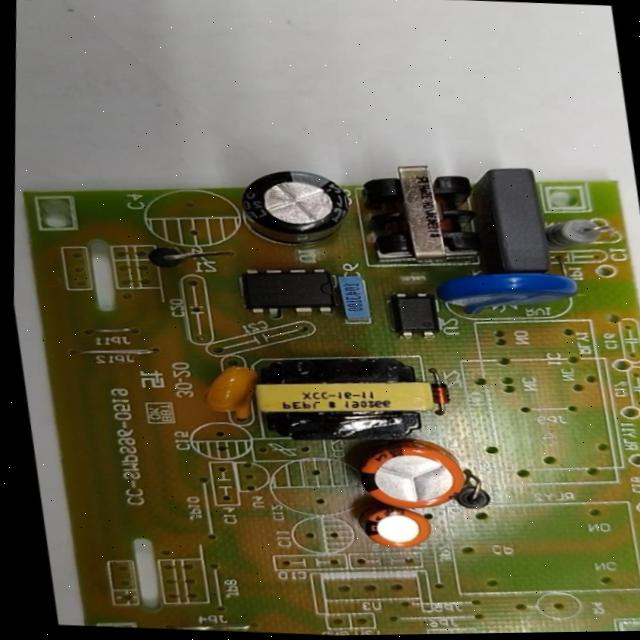Cap1: (354, 433, 470, 513)
Cap2: (358, 505, 433, 552)
Cap3: (238, 162, 356, 251)
MOSFET: (240, 263, 335, 319)
Mov: (438, 264, 580, 319)
Resistor: (249, 347, 441, 448), (545, 214, 614, 252)
Transformer: (362, 159, 484, 266)
